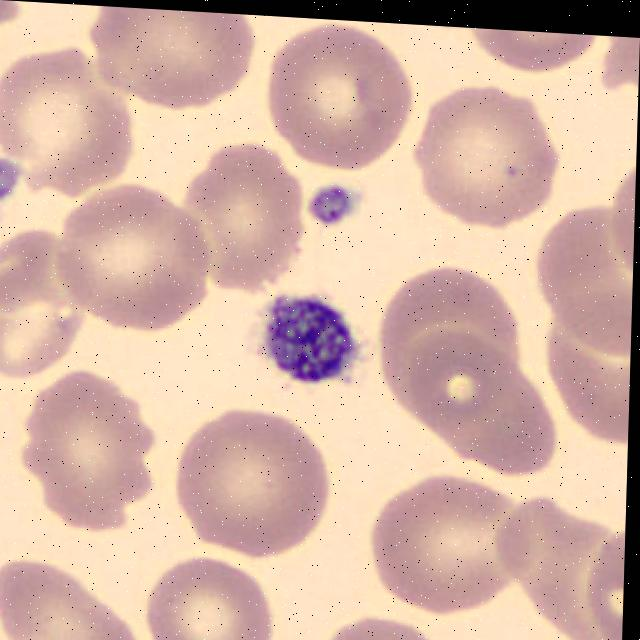platelets: (250, 284, 361, 397), (307, 176, 362, 231), (0, 161, 22, 215)
rbc: (369, 470, 549, 624), (405, 84, 575, 240), (398, 324, 559, 487), (57, 181, 222, 339), (168, 407, 336, 562), (18, 358, 159, 542), (255, 21, 422, 174), (377, 254, 527, 421), (491, 481, 627, 640), (2, 52, 140, 204), (174, 144, 308, 298), (88, 5, 261, 112), (532, 205, 635, 365), (0, 231, 94, 386), (544, 286, 633, 447), (0, 555, 148, 640), (142, 557, 282, 640), (467, 28, 598, 84), (312, 602, 469, 640), (593, 161, 636, 281), (582, 523, 626, 640), (599, 36, 640, 118)
